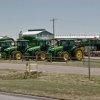Tractor: (11, 23, 93, 71)
